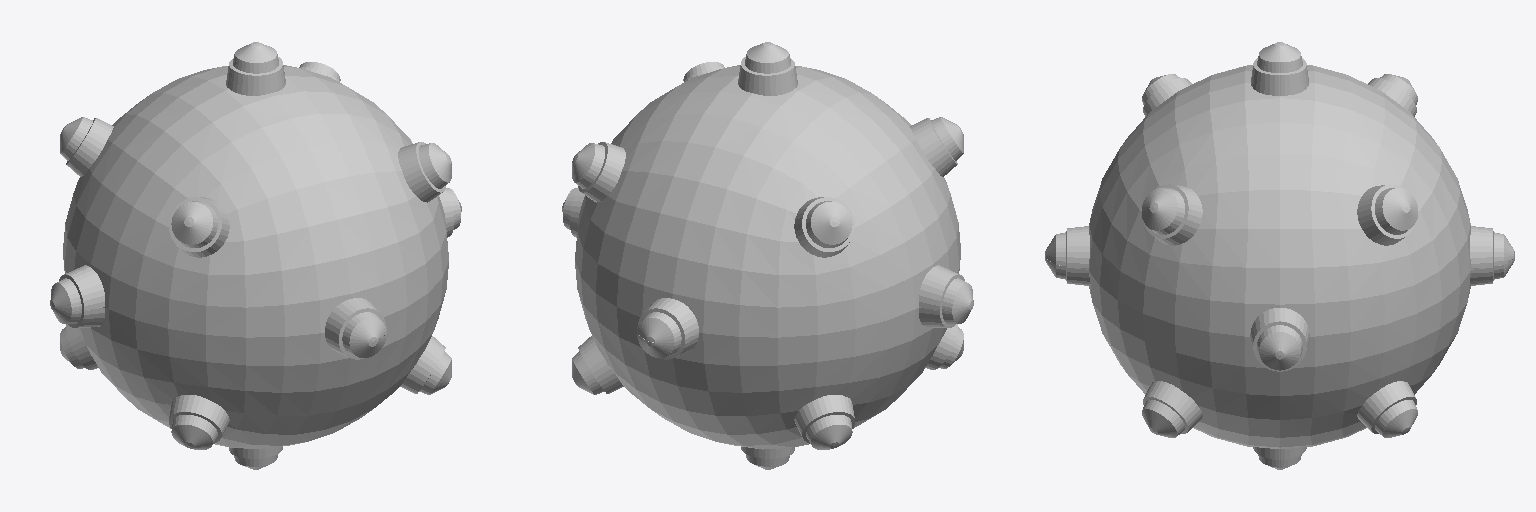
The model's file is bomb.obj.
3 views of the same model, side by side, from view 1: azimuth 30°, elevation 25°; view 2: azimuth 150°, elevation 25°; view 3: azimuth 270°, elevation 25° (orthographic).
Visible parts, largest first — view 1: Roundcube_bomba; view 2: Roundcube_bomba; view 3: Roundcube_bomba.
Boxes of the visible parts, box(x1,y1,x2,y2) form: Roundcube_bomba: box(50, 42, 461, 469); Roundcube_bomba: box(562, 42, 973, 469); Roundcube_bomba: box(1045, 42, 1514, 469).
Size of the model in its own units: 2.32 by 2.31 by 2.32.